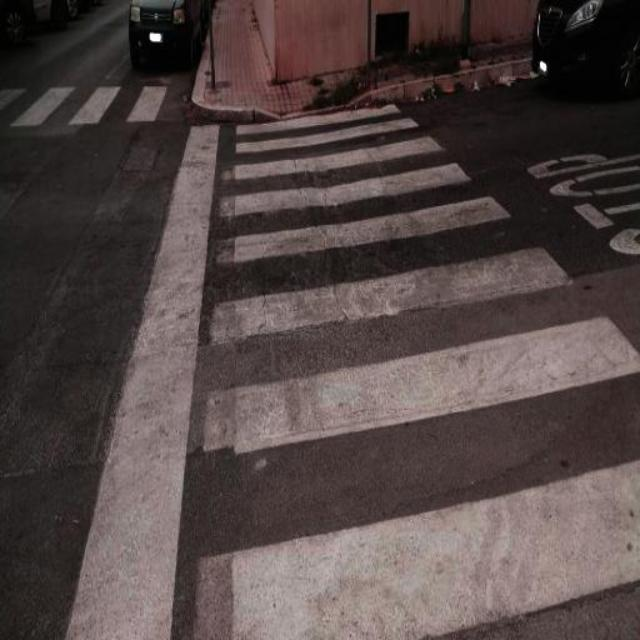sidewalk: (180, 90, 637, 638), (9, 82, 174, 128)
